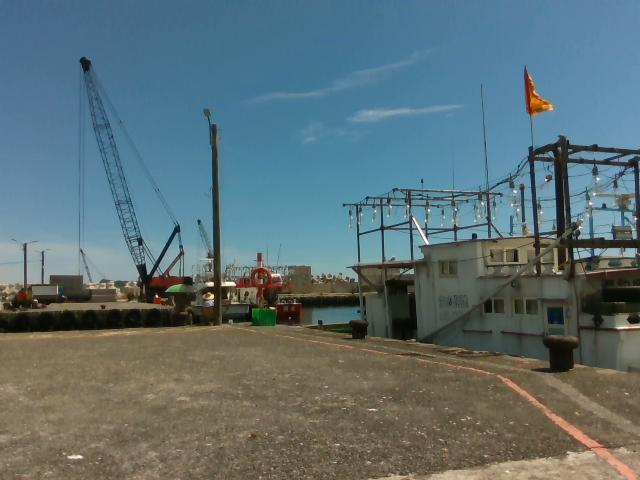pollute: (65, 451, 86, 461)
